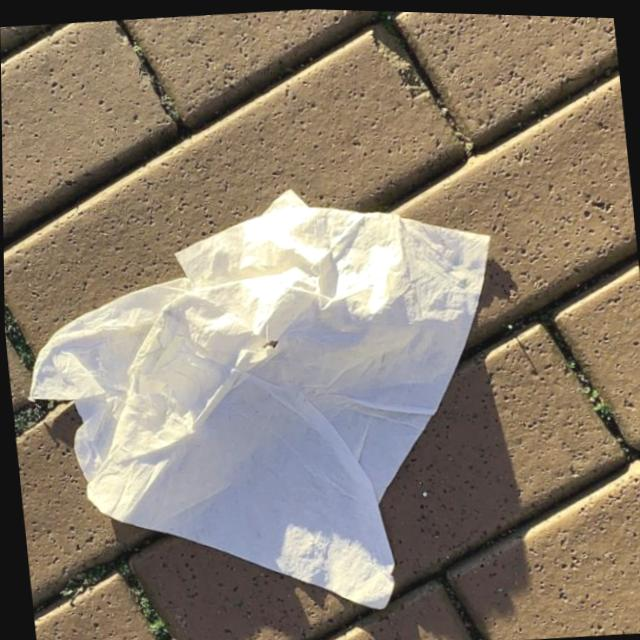Paper: (3, 161, 530, 640)
